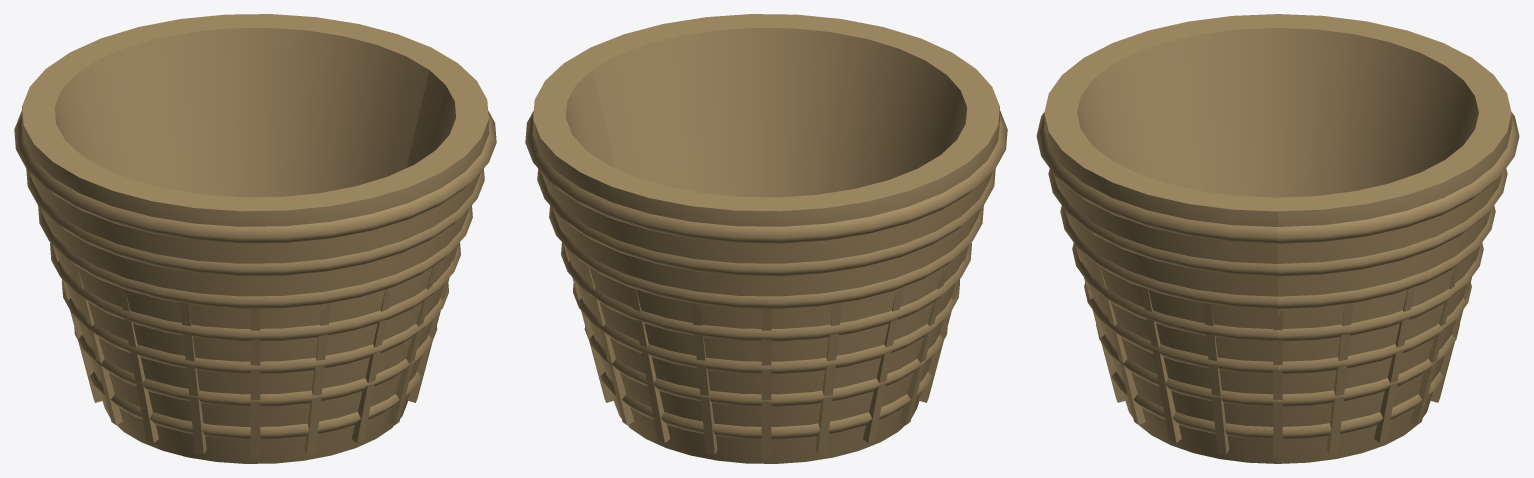
The model's file is Basket_Empty.fbx.
The picture shows the model from 3 angles, left to right: view 1: azimuth 30°, elevation 25°; view 2: azimuth 150°, elevation 25°; view 3: azimuth 270°, elevation 25°; orthographic projection.
Visible parts, largest first — view 1: Woven basket body, Horizontal wicker braid.006, Horizontal wicker braid.005, Horizontal wicker braid.004, Horizontal wicker braid.003, Horizontal wicker braid.002, Horizontal wicker braid.001, Horizontal wicker braid, Basket upright weave.012, Basket upright weave.011, Basket upright weave.013, Basket upright weave.010 (+5 smaller); view 2: Woven basket body, Horizontal wicker braid.006, Horizontal wicker braid.005, Horizontal wicker braid.004, Horizontal wicker braid.003, Horizontal wicker braid.002, Horizontal wicker braid.001, Horizontal wicker braid, Basket upright weave.006, Basket upright weave.007, Basket upright weave.005, Basket upright weave.008 (+5 smaller); view 3: Woven basket body, Horizontal wicker braid.006, Horizontal wicker braid.005, Horizontal wicker braid.004, Horizontal wicker braid.003, Horizontal wicker braid.002, Horizontal wicker braid.001, Horizontal wicker braid, Basket upright weave.001, Basket upright weave.017, Basket upright weave.002, Basket upright weave.016 (+5 smaller).
Boxes of the visible parts, bbox=[...] form: Woven basket body: bbox=[22, 14, 488, 463]; Horizontal wicker braid.006: bbox=[14, 110, 496, 243]; Horizontal wicker braid.005: bbox=[26, 168, 484, 276]; Horizontal wicker braid.004: bbox=[38, 205, 472, 308]; Horizontal wicker braid.003: bbox=[50, 242, 460, 341]; Horizontal wicker braid.002: bbox=[62, 281, 448, 374]; Horizontal wicker braid.001: bbox=[74, 326, 437, 406]; Horizontal wicker braid: bbox=[89, 371, 421, 439]; Basket upright weave.012: bbox=[250, 308, 260, 458]; Basket upright weave.011: bbox=[180, 302, 206, 454]; Basket upright weave.013: bbox=[304, 302, 330, 454]; Basket upright weave.010: bbox=[118, 286, 158, 443]; Woven basket body: bbox=[533, 14, 999, 463]; Horizontal wicker braid.006: bbox=[525, 110, 1007, 243]; Horizontal wicker braid.005: bbox=[537, 168, 995, 276]; Horizontal wicker braid.004: bbox=[549, 205, 983, 308]; Horizontal wicker braid.003: bbox=[561, 242, 971, 341]; Horizontal wicker braid.002: bbox=[573, 281, 959, 374]; Horizontal wicker braid.001: bbox=[584, 326, 947, 406]; Horizontal wicker braid: bbox=[600, 371, 932, 439]; Basket upright weave.006: bbox=[761, 308, 771, 458]; Basket upright weave.007: bbox=[815, 302, 841, 454]; Basket upright weave.005: bbox=[691, 302, 717, 454]; Basket upright weave.008: bbox=[863, 286, 903, 443]; Woven basket body: bbox=[1044, 14, 1511, 463]; Horizontal wicker braid.006: bbox=[1036, 112, 1519, 243]; Horizontal wicker braid.005: bbox=[1048, 168, 1507, 276]; Horizontal wicker braid.004: bbox=[1060, 205, 1495, 308]; Horizontal wicker braid.003: bbox=[1072, 243, 1483, 341]; Horizontal wicker braid.002: bbox=[1084, 282, 1471, 373]; Horizontal wicker braid.001: bbox=[1096, 324, 1459, 406]; Horizontal wicker braid: bbox=[1111, 371, 1444, 439]; Basket upright weave.001: bbox=[1326, 303, 1353, 454]; Basket upright weave.017: bbox=[1202, 303, 1229, 454]; Basket upright weave.002: bbox=[1374, 286, 1414, 442]; Basket upright weave.016: bbox=[1141, 286, 1181, 442].
Bounding box in the file's own units: 93.03 × 61 × 93.03.
